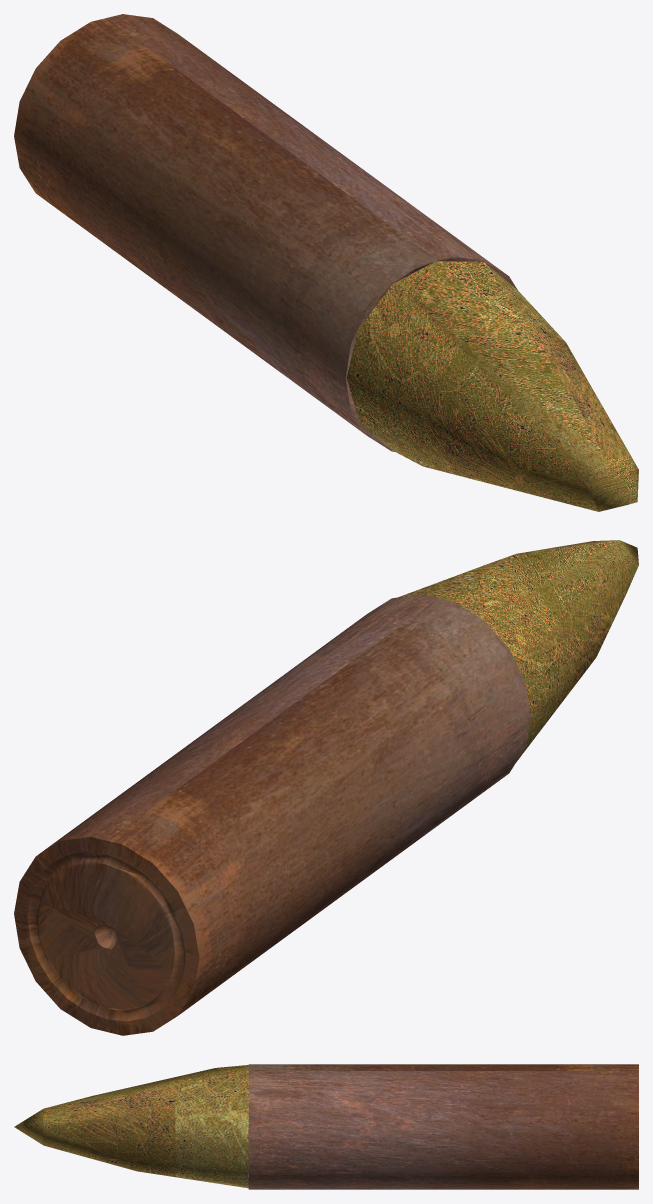
The model's file is shell_type1_lod2.FBX.
The picture shows the model from 3 angles, top to bottom: view 1: azimuth 30°, elevation 25°; view 2: azimuth 150°, elevation 25°; view 3: azimuth 270°, elevation 25°; orthographic projection. The views are drawn at different scales.
Visible parts, largest first — view 1: Cylinder001, top; view 2: Cylinder001, top; view 3: Cylinder001, top.
Boxes of the visible parts, left/top/right/bottom form: Cylinder001: left=14, top=14, right=517, bottom=451; top: left=346, top=261, right=638, bottom=511; Cylinder001: left=14, top=594, right=530, bottom=1035; top: left=398, top=540, right=638, bottom=762; Cylinder001: left=248, top=1064, right=638, bottom=1189; top: left=14, top=1065, right=248, bottom=1188.
Bounding box in the file's own units: 34.65 × 34.12 × 172.
3 materials, 2 textured.
